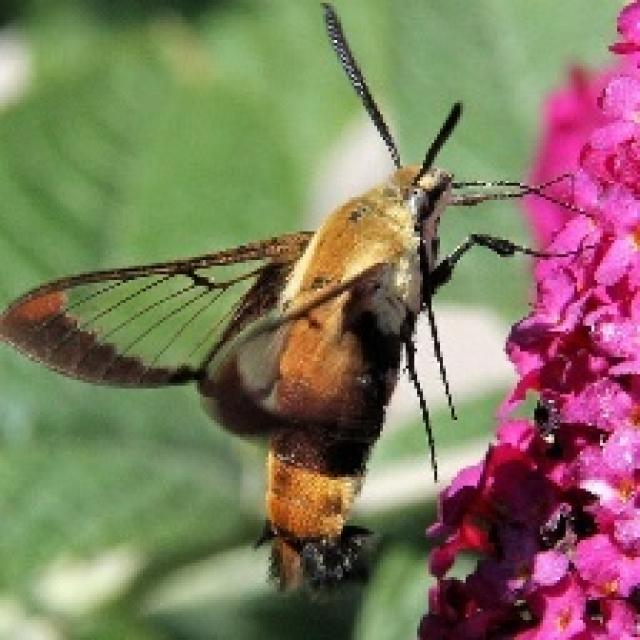butterfly: (0, 0, 594, 594)
